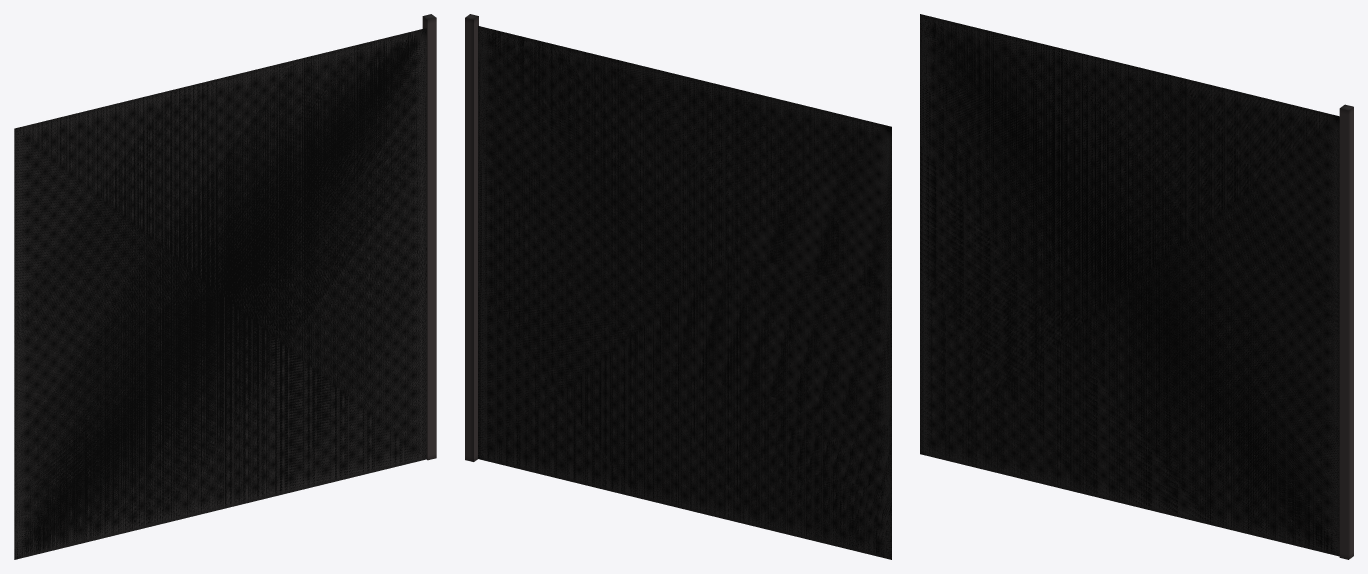
File: Fence.obj
3 renders of one model, left to right at view 1: azimuth 30°, elevation 25°; view 2: azimuth 150°, elevation 25°; view 3: azimuth 330°, elevation 25°, orthographic. The views are drawn at different scales.
Visible parts, largest first — view 1: cube; view 2: cube; view 3: cube.
Part boxes in pixels (box(x1,y1,x2,y2)): cube: box(14, 14, 436, 559); cube: box(465, 14, 891, 559); cube: box(920, 14, 1353, 559).
Size of the model in its own units: 3 by 3 by 0.0625.
Materials: 1 (1 with a texture image).
